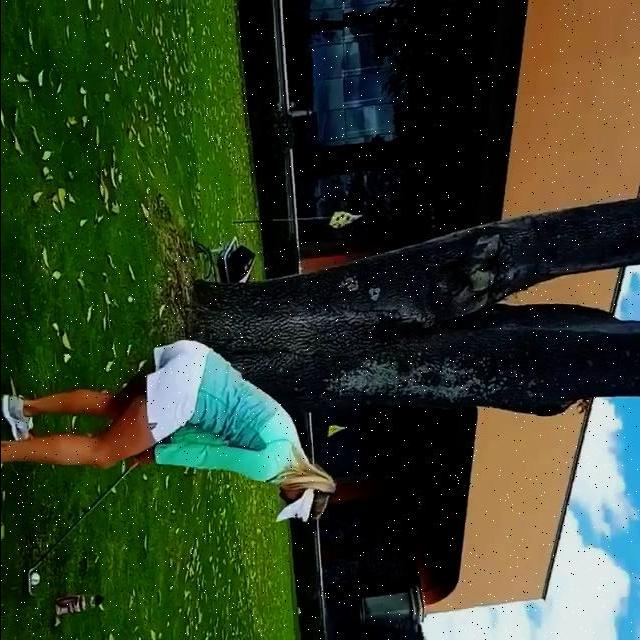golf ball: (30, 575, 38, 585)
golf club-handle: (22, 458, 141, 597)
golf club-head: (23, 567, 34, 597)
